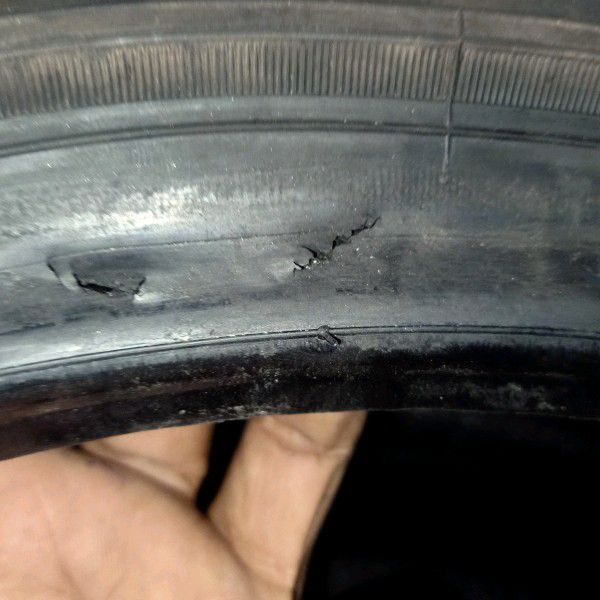cut: (289, 216, 383, 275), (69, 266, 151, 300)
